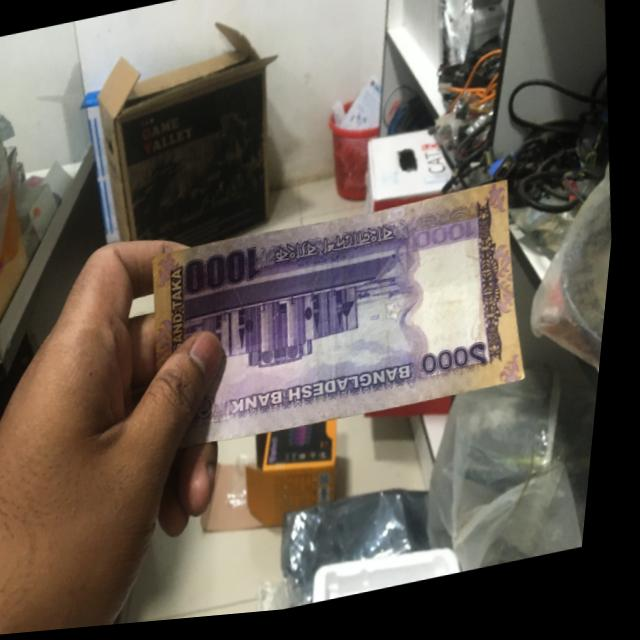Taka: (136, 181, 548, 460)
